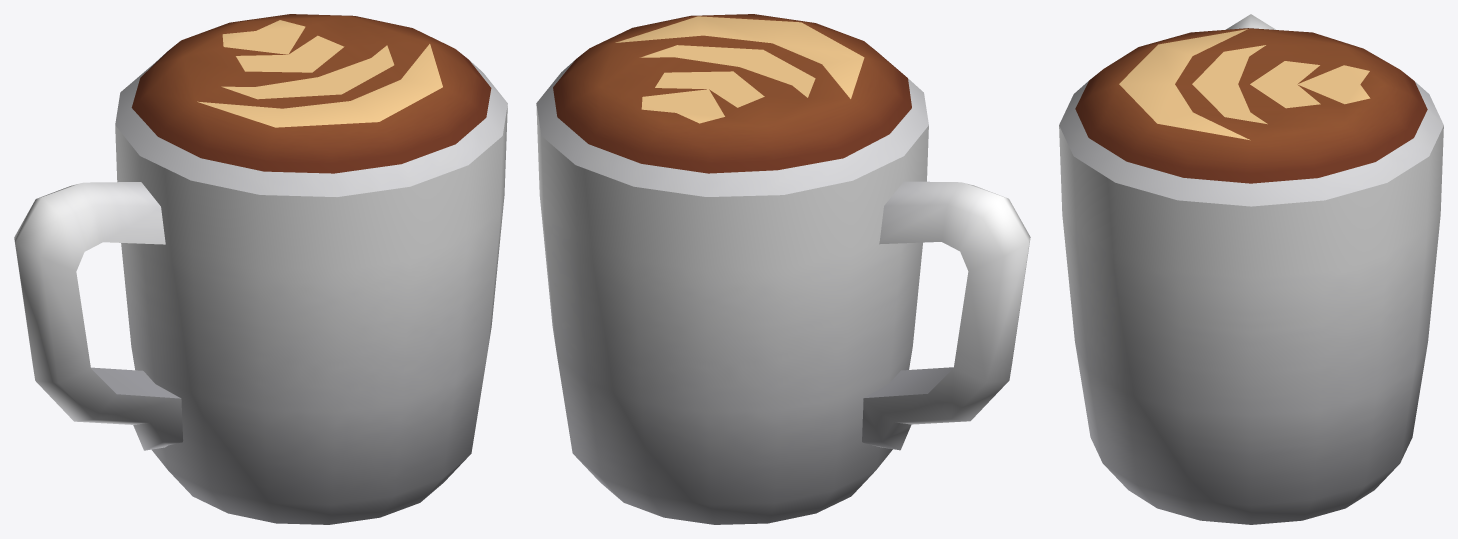
File: m_Mug01_Choco03.fbx
3 renders of one model, left to right at view 1: azimuth 30°, elevation 25°; view 2: azimuth 150°, elevation 25°; view 3: azimuth 270°, elevation 25°, orthographic. The views are drawn at different scales.
Visible parts, largest first — view 1: m_Mug01_Choco03; view 2: m_Mug01_Choco03; view 3: m_Mug01_Choco03.
Part boxes in pixels (bbox=[...]): m_Mug01_Choco03: bbox=[14, 14, 507, 524]; m_Mug01_Choco03: bbox=[536, 14, 1030, 524]; m_Mug01_Choco03: bbox=[1059, 14, 1443, 524].
Size of the model in its own units: 15.22 by 12.3 by 11.16.
